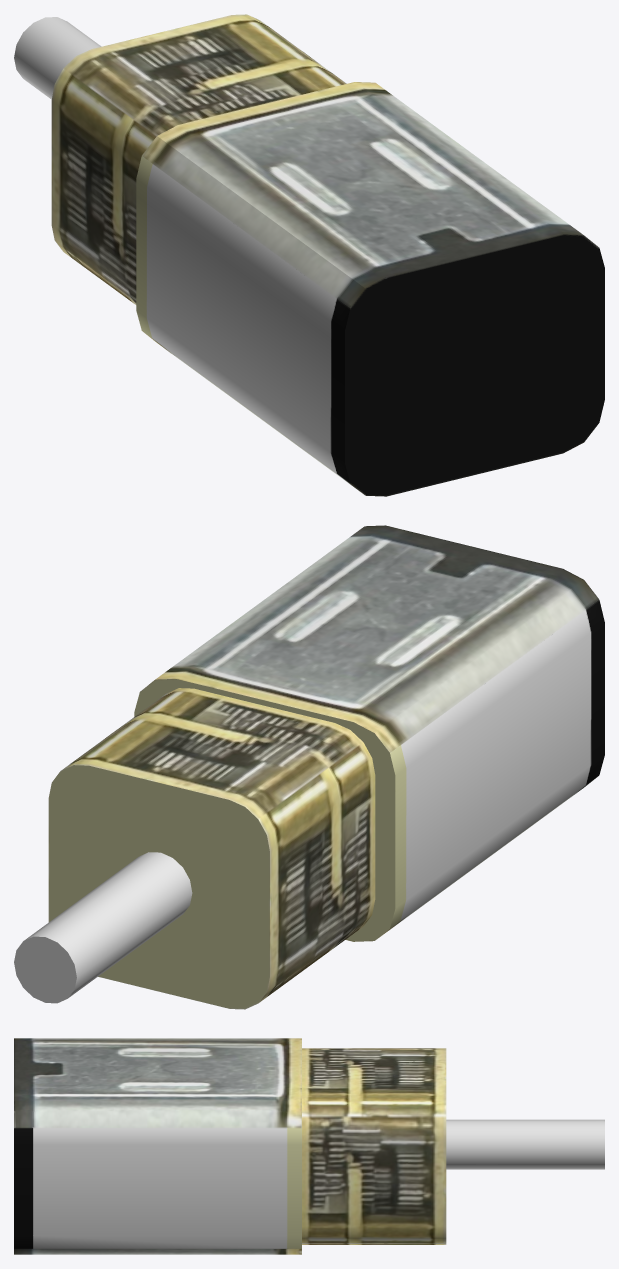
Rendered from motor.fbx.
3 renders of one model, top to bottom at view 1: azimuth 30°, elevation 25°; view 2: azimuth 150°, elevation 25°; view 3: azimuth 270°, elevation 25°, orthographic. The views are drawn at different scales.
Visible parts, largest first — view 1: motor.001; view 2: motor.001; view 3: motor.001.
Part boxes in pixels (left/top/right/bottom): motor.001: left=14, top=14, right=604, bottom=496; motor.001: left=14, top=525, right=604, bottom=1009; motor.001: left=14, top=1038, right=604, bottom=1254.
Size of the model in its own units: 1.24 by 1 by 3.55.
1 material, 1 textured.
